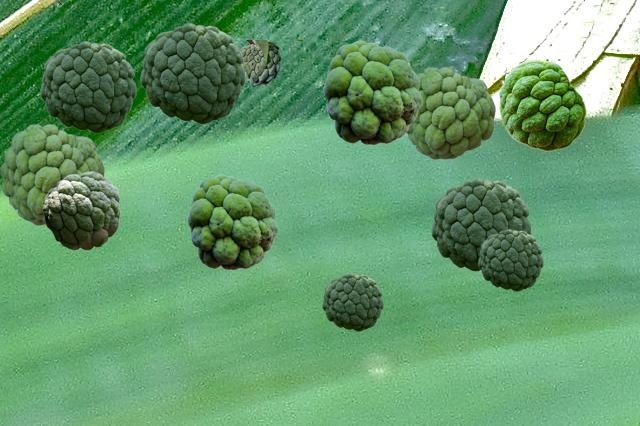atis: (140, 23, 244, 123), (0, 124, 103, 224), (323, 40, 421, 144), (431, 178, 530, 271), (40, 41, 135, 132), (187, 174, 277, 269), (407, 67, 494, 158), (499, 59, 585, 150), (42, 171, 119, 249), (478, 229, 542, 290), (322, 273, 382, 330), (240, 40, 302, 84)
